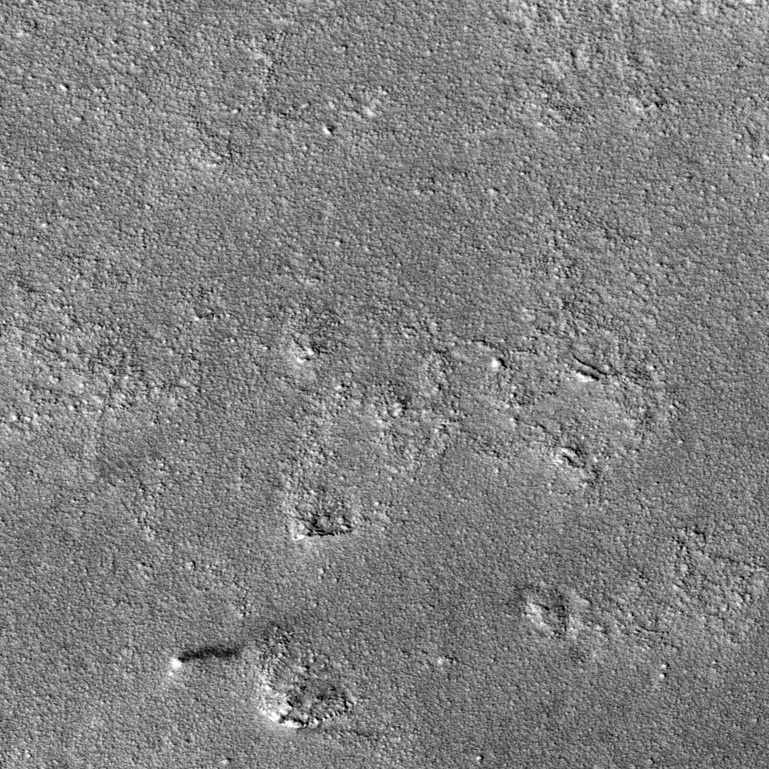dust_devil: (166, 642, 245, 676)
